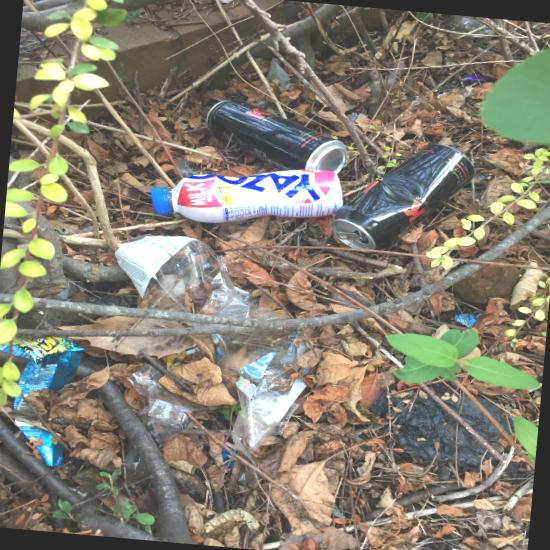Aluminium foil: (454, 314, 470, 327), (463, 313, 476, 327), (222, 448, 234, 462)
Clear plastic bottle: (150, 169, 342, 222)
Drink can: (330, 144, 474, 252), (206, 99, 346, 174)
Normal paper: (266, 57, 290, 89)
Other plastic: (10, 335, 86, 466), (462, 73, 477, 80)
Plastic bottle cap: (150, 187, 167, 215)
Plastic film: (210, 323, 306, 489), (114, 233, 290, 323), (127, 362, 217, 443), (454, 15, 485, 33)
Pop tab: (335, 231, 360, 239)
